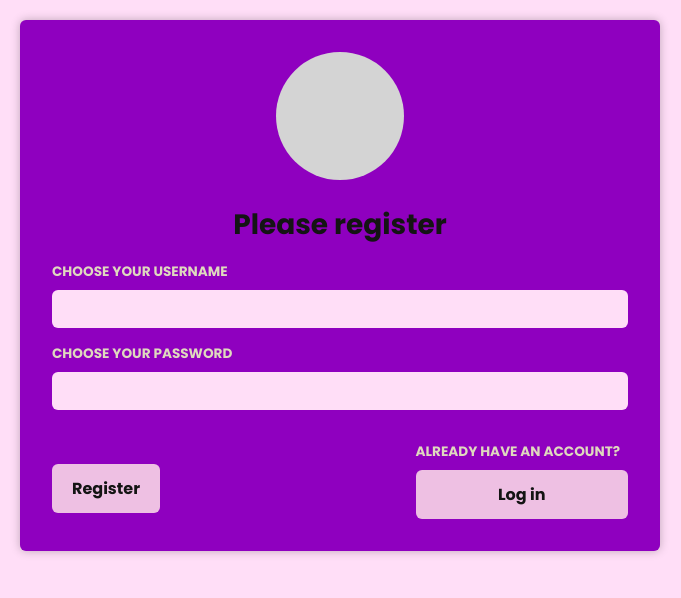
Test: Register Component › displays generic error for failed registration without message
Click the button "Register".
click(106, 488)  # box x1=52 y1=464 x2=160 y2=513
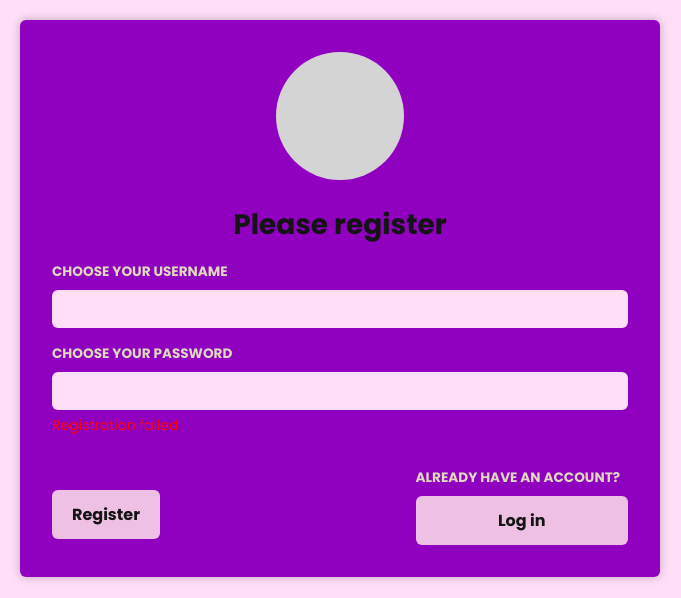
expect the text "Registration failed" is shown: met, box x1=52 y1=415 x2=178 y2=435
